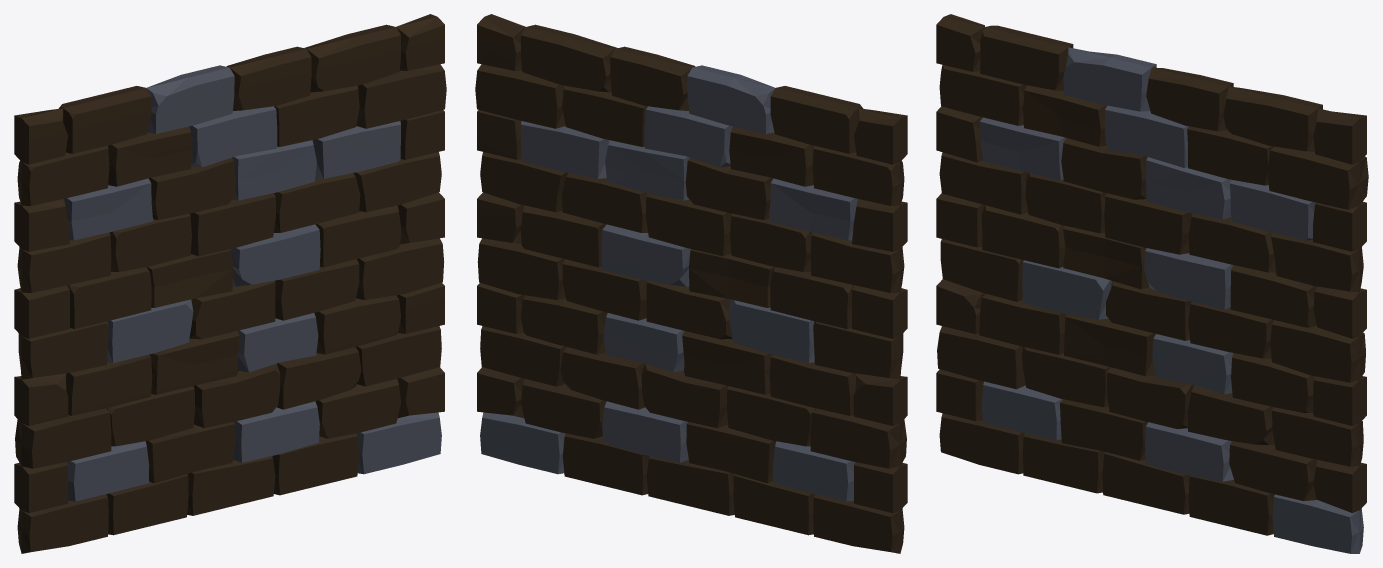
File: Wall_03.fbx
The picture shows the model from 3 angles, left to right: view 1: azimuth 30°, elevation 25°; view 2: azimuth 150°, elevation 25°; view 3: azimuth 330°, elevation 25°; orthographic projection.
Parts seen in each view (by area): view 1: Wall_03; view 2: Wall_03; view 3: Wall_03.
Part boxes in pixels (x1,y1,x2,y2): Wall_03: [14, 14, 446, 553]; Wall_03: [475, 14, 907, 553]; Wall_03: [936, 14, 1368, 553].
Size of the model in its own units: 4 by 4 by 0.3136.
